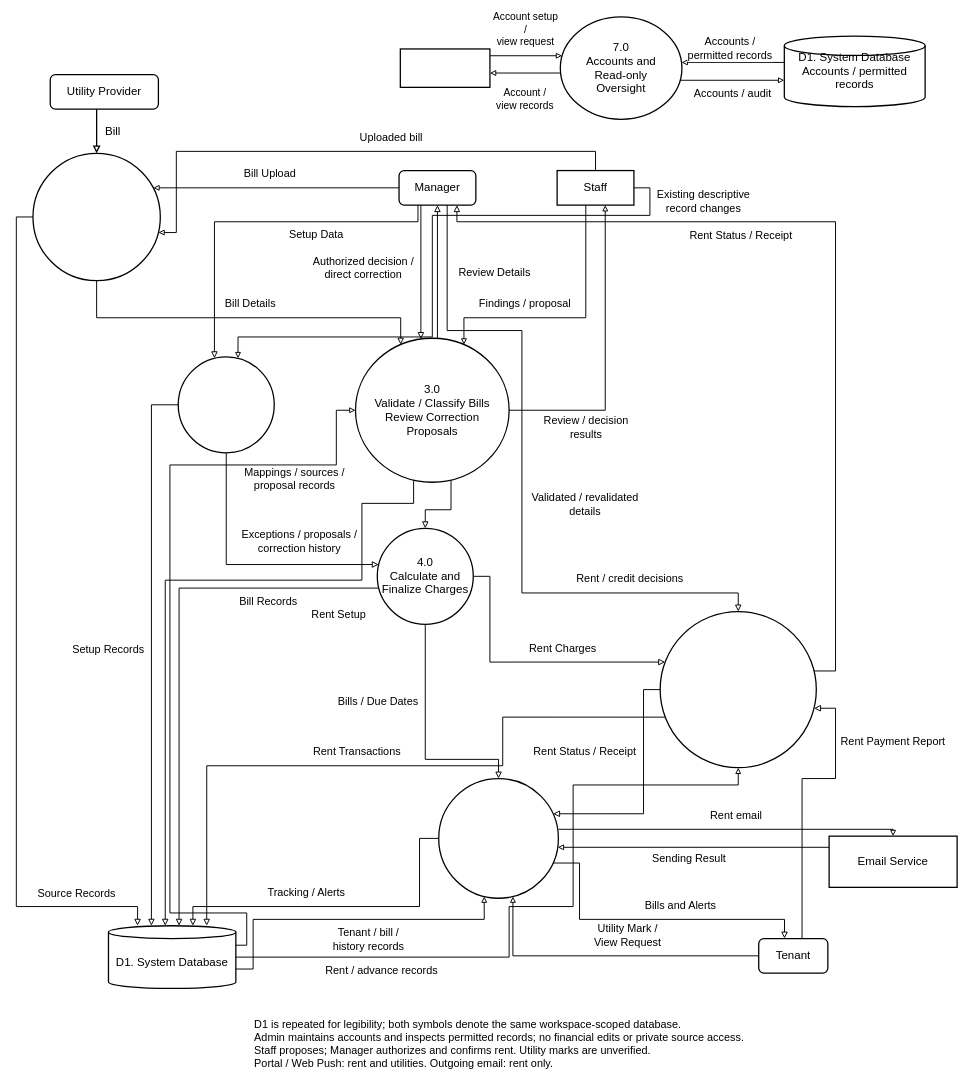
Image size: 969x1091. Some labels were removed from this diagram. Each missing label, with the centre of its shape:
"1.0 Manage Setup" belongs at point (226, 404).
"2.0 Extract Bill Details Text / OCR" belongs at point (96, 216).
"5.0 Confirm Rent, Apply Final Credit, and Issue Receipts" belongs at point (738, 689).
"6.0 Tenant Portal / Alerts Personal Utility Tracker" belongs at point (498, 838).
"Admin" belongs at point (444, 68).
